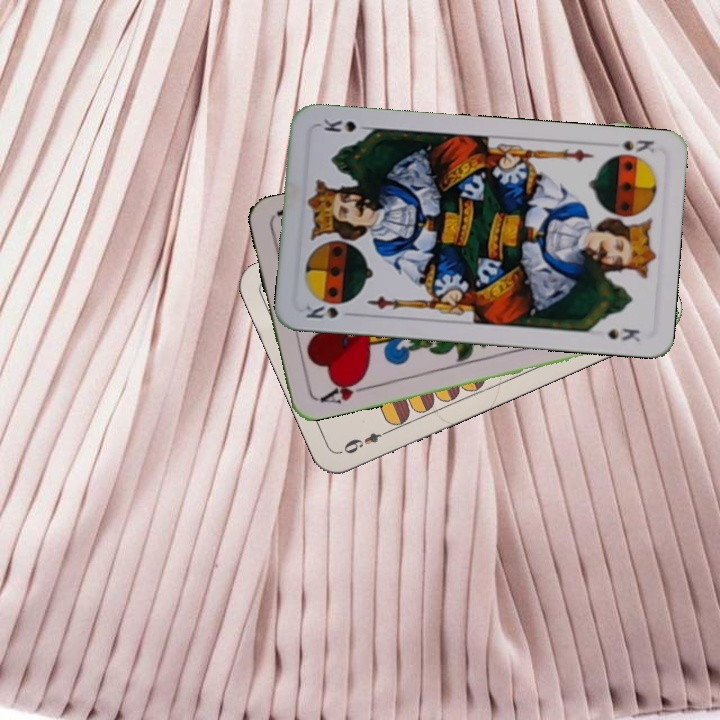E9: (337, 425, 393, 457)
HA: (312, 374, 371, 407)
SK: (302, 299, 341, 321), (619, 136, 657, 155)
